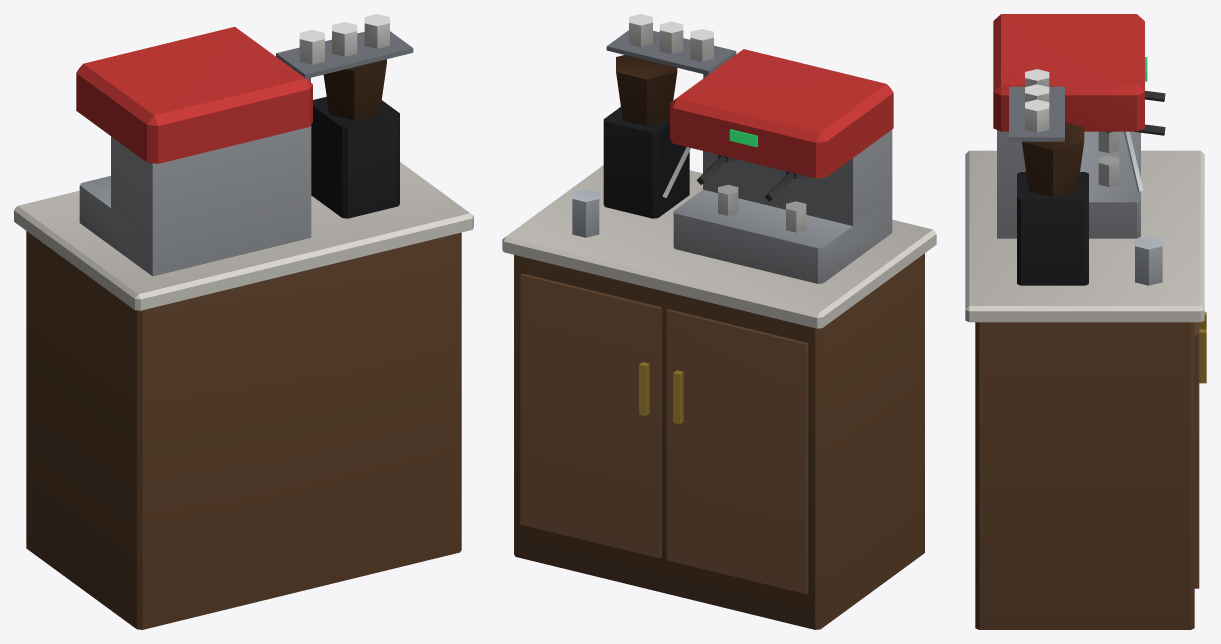
The model's file is coffee_machine_01.glb.
3 views of the same model, side by side, from view 1: azimuth 30°, elevation 25°; view 2: azimuth 150°, elevation 25°; view 3: azimuth 270°, elevation 25° (orthographic). The views are drawn at different scales.
Visible parts, largest first — view 1: coffee_machine_01_mesh; view 2: coffee_machine_01_mesh; view 3: coffee_machine_01_mesh.
Part boxes in pixels (left/top/right/bottom): coffee_machine_01_mesh: left=14, top=14, right=473, bottom=629; coffee_machine_01_mesh: left=502, top=14, right=936, bottom=629; coffee_machine_01_mesh: left=965, top=14, right=1206, bottom=629.
Bounding box in the file's own units: 0.94 × 1.38 × 0.605.
2 materials, 2 textured.
